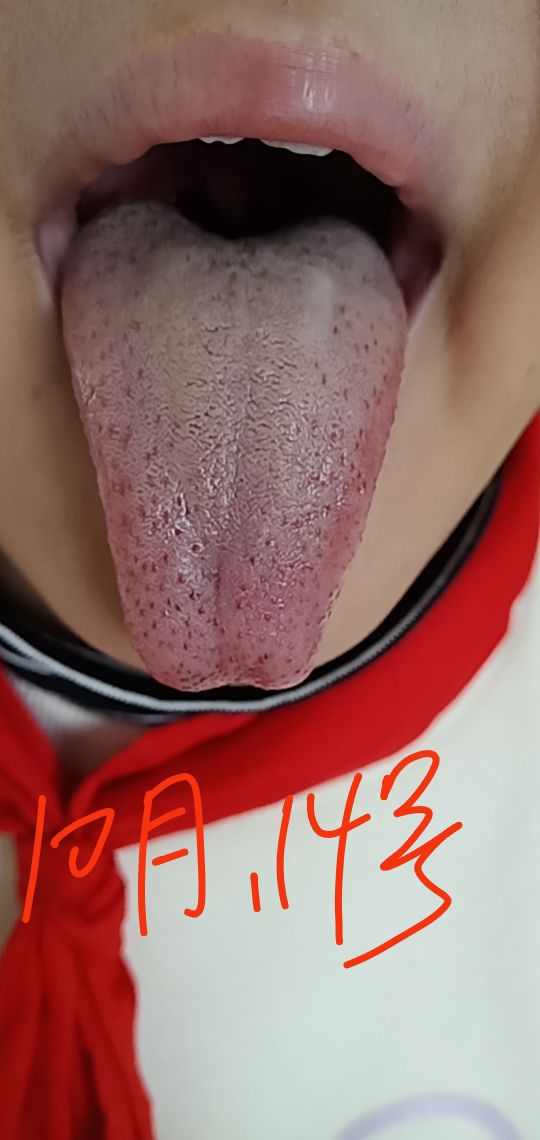baitaishe: (60, 202, 407, 691)
hongdianshe: (190, 542, 202, 554), (175, 572, 187, 584), (182, 639, 190, 652), (264, 538, 273, 549), (261, 652, 270, 661)
